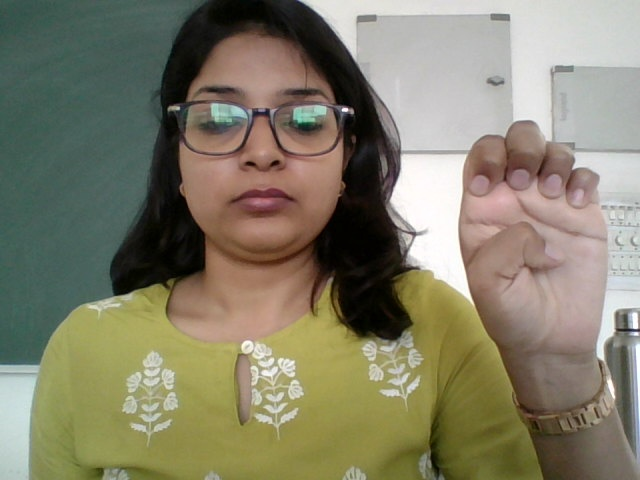E: (450, 116, 621, 373)
